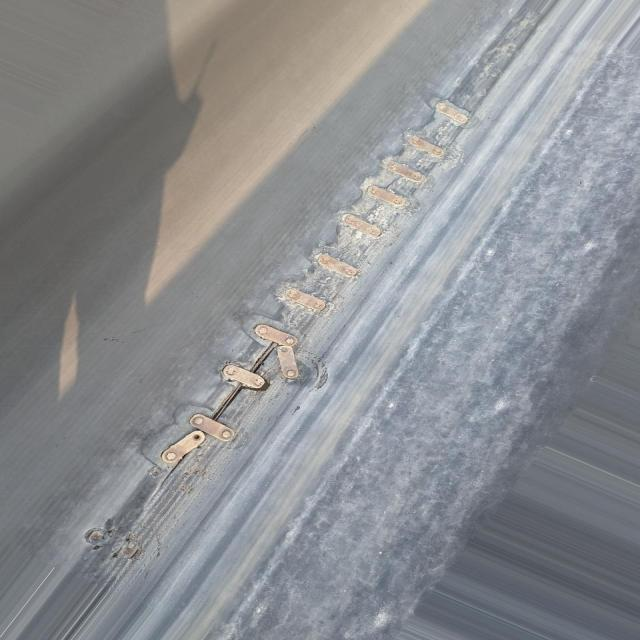patch work: (52, 90, 509, 618)
